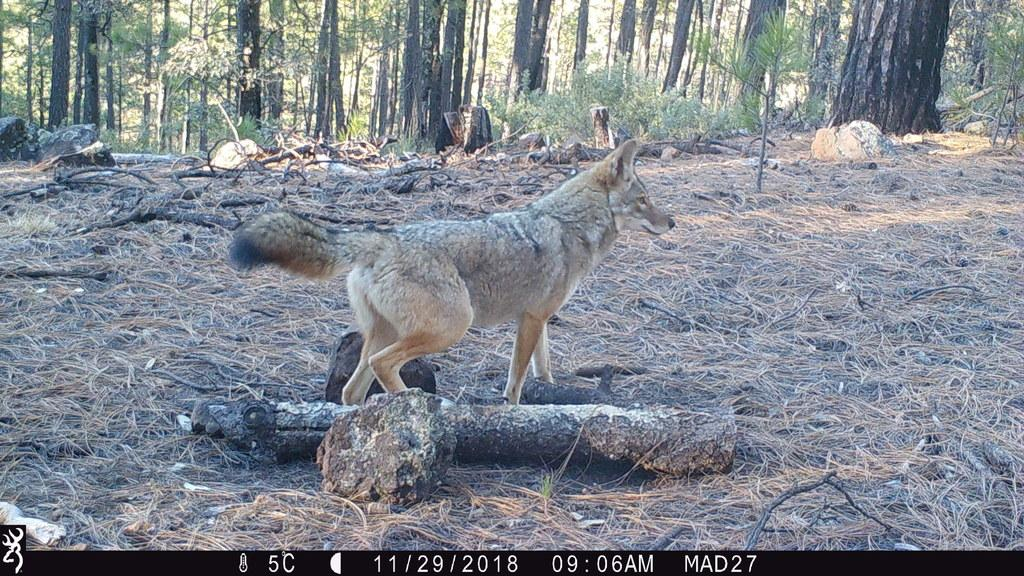Coyote: (224, 135, 677, 404)
